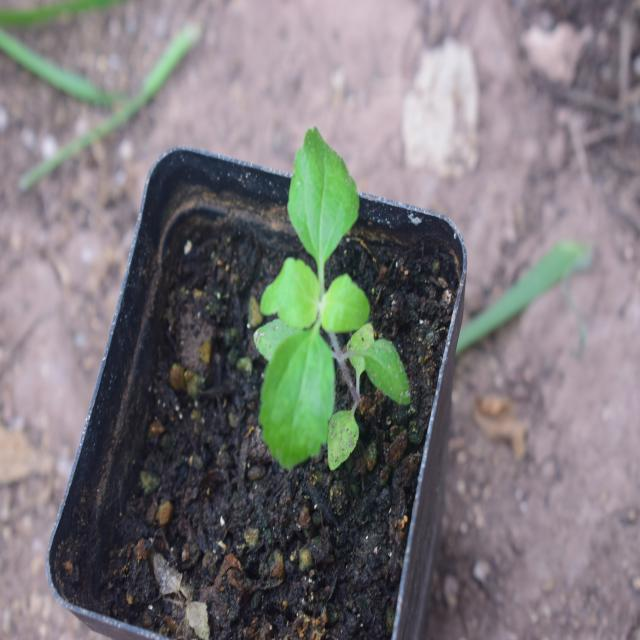billygoat_weed: (247, 121, 401, 463)
